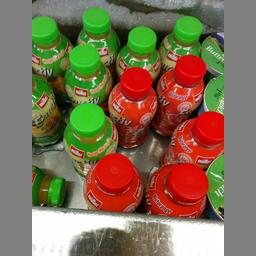juice: (60, 100, 118, 180), (150, 52, 204, 134), (105, 66, 158, 148), (143, 161, 209, 217), (159, 110, 223, 164)
